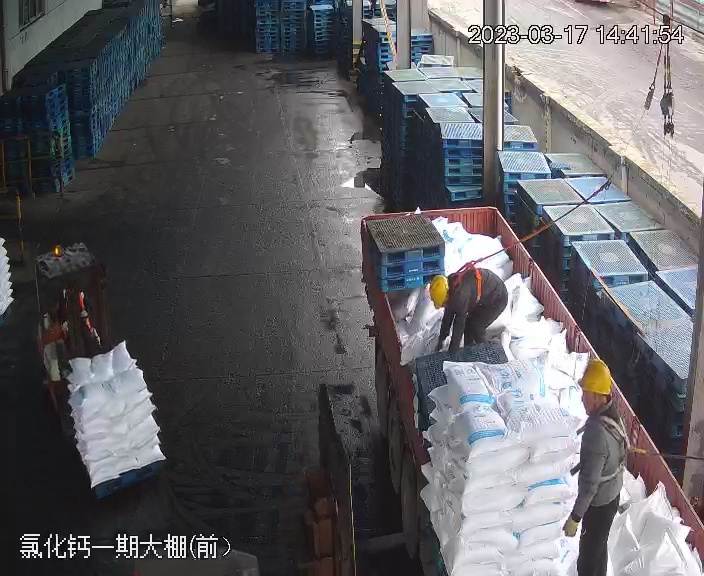belt: (585, 409, 642, 484), (447, 258, 488, 303)
head: (571, 359, 629, 453), (424, 266, 477, 316)
helmet: (577, 358, 614, 395), (427, 273, 449, 311)
people: (563, 364, 629, 571), (426, 266, 509, 355)
truck: (347, 201, 701, 576)
